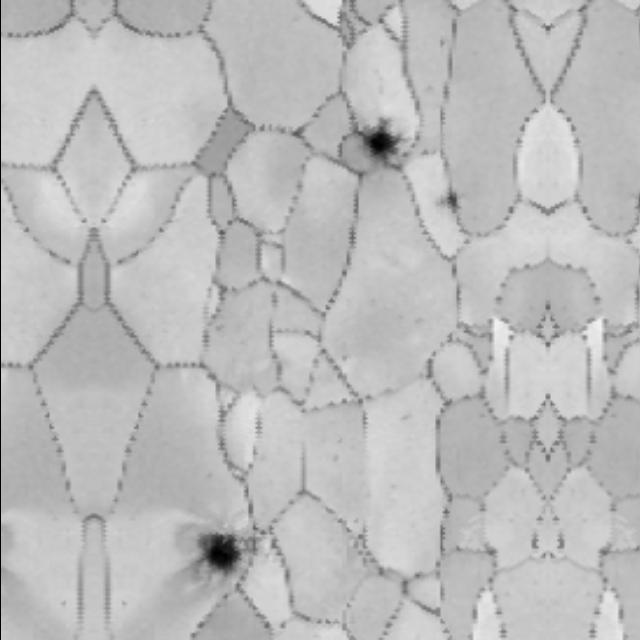good_void: (173, 508, 259, 597), (346, 116, 404, 170), (428, 189, 466, 216), (628, 189, 640, 215), (552, 535, 568, 550), (526, 535, 541, 550)
